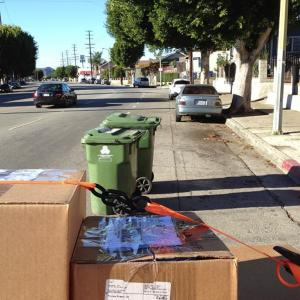Vehicle-registration-plate: (196, 100, 208, 105)
